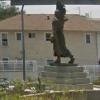Statue: (34, 4, 84, 70)
